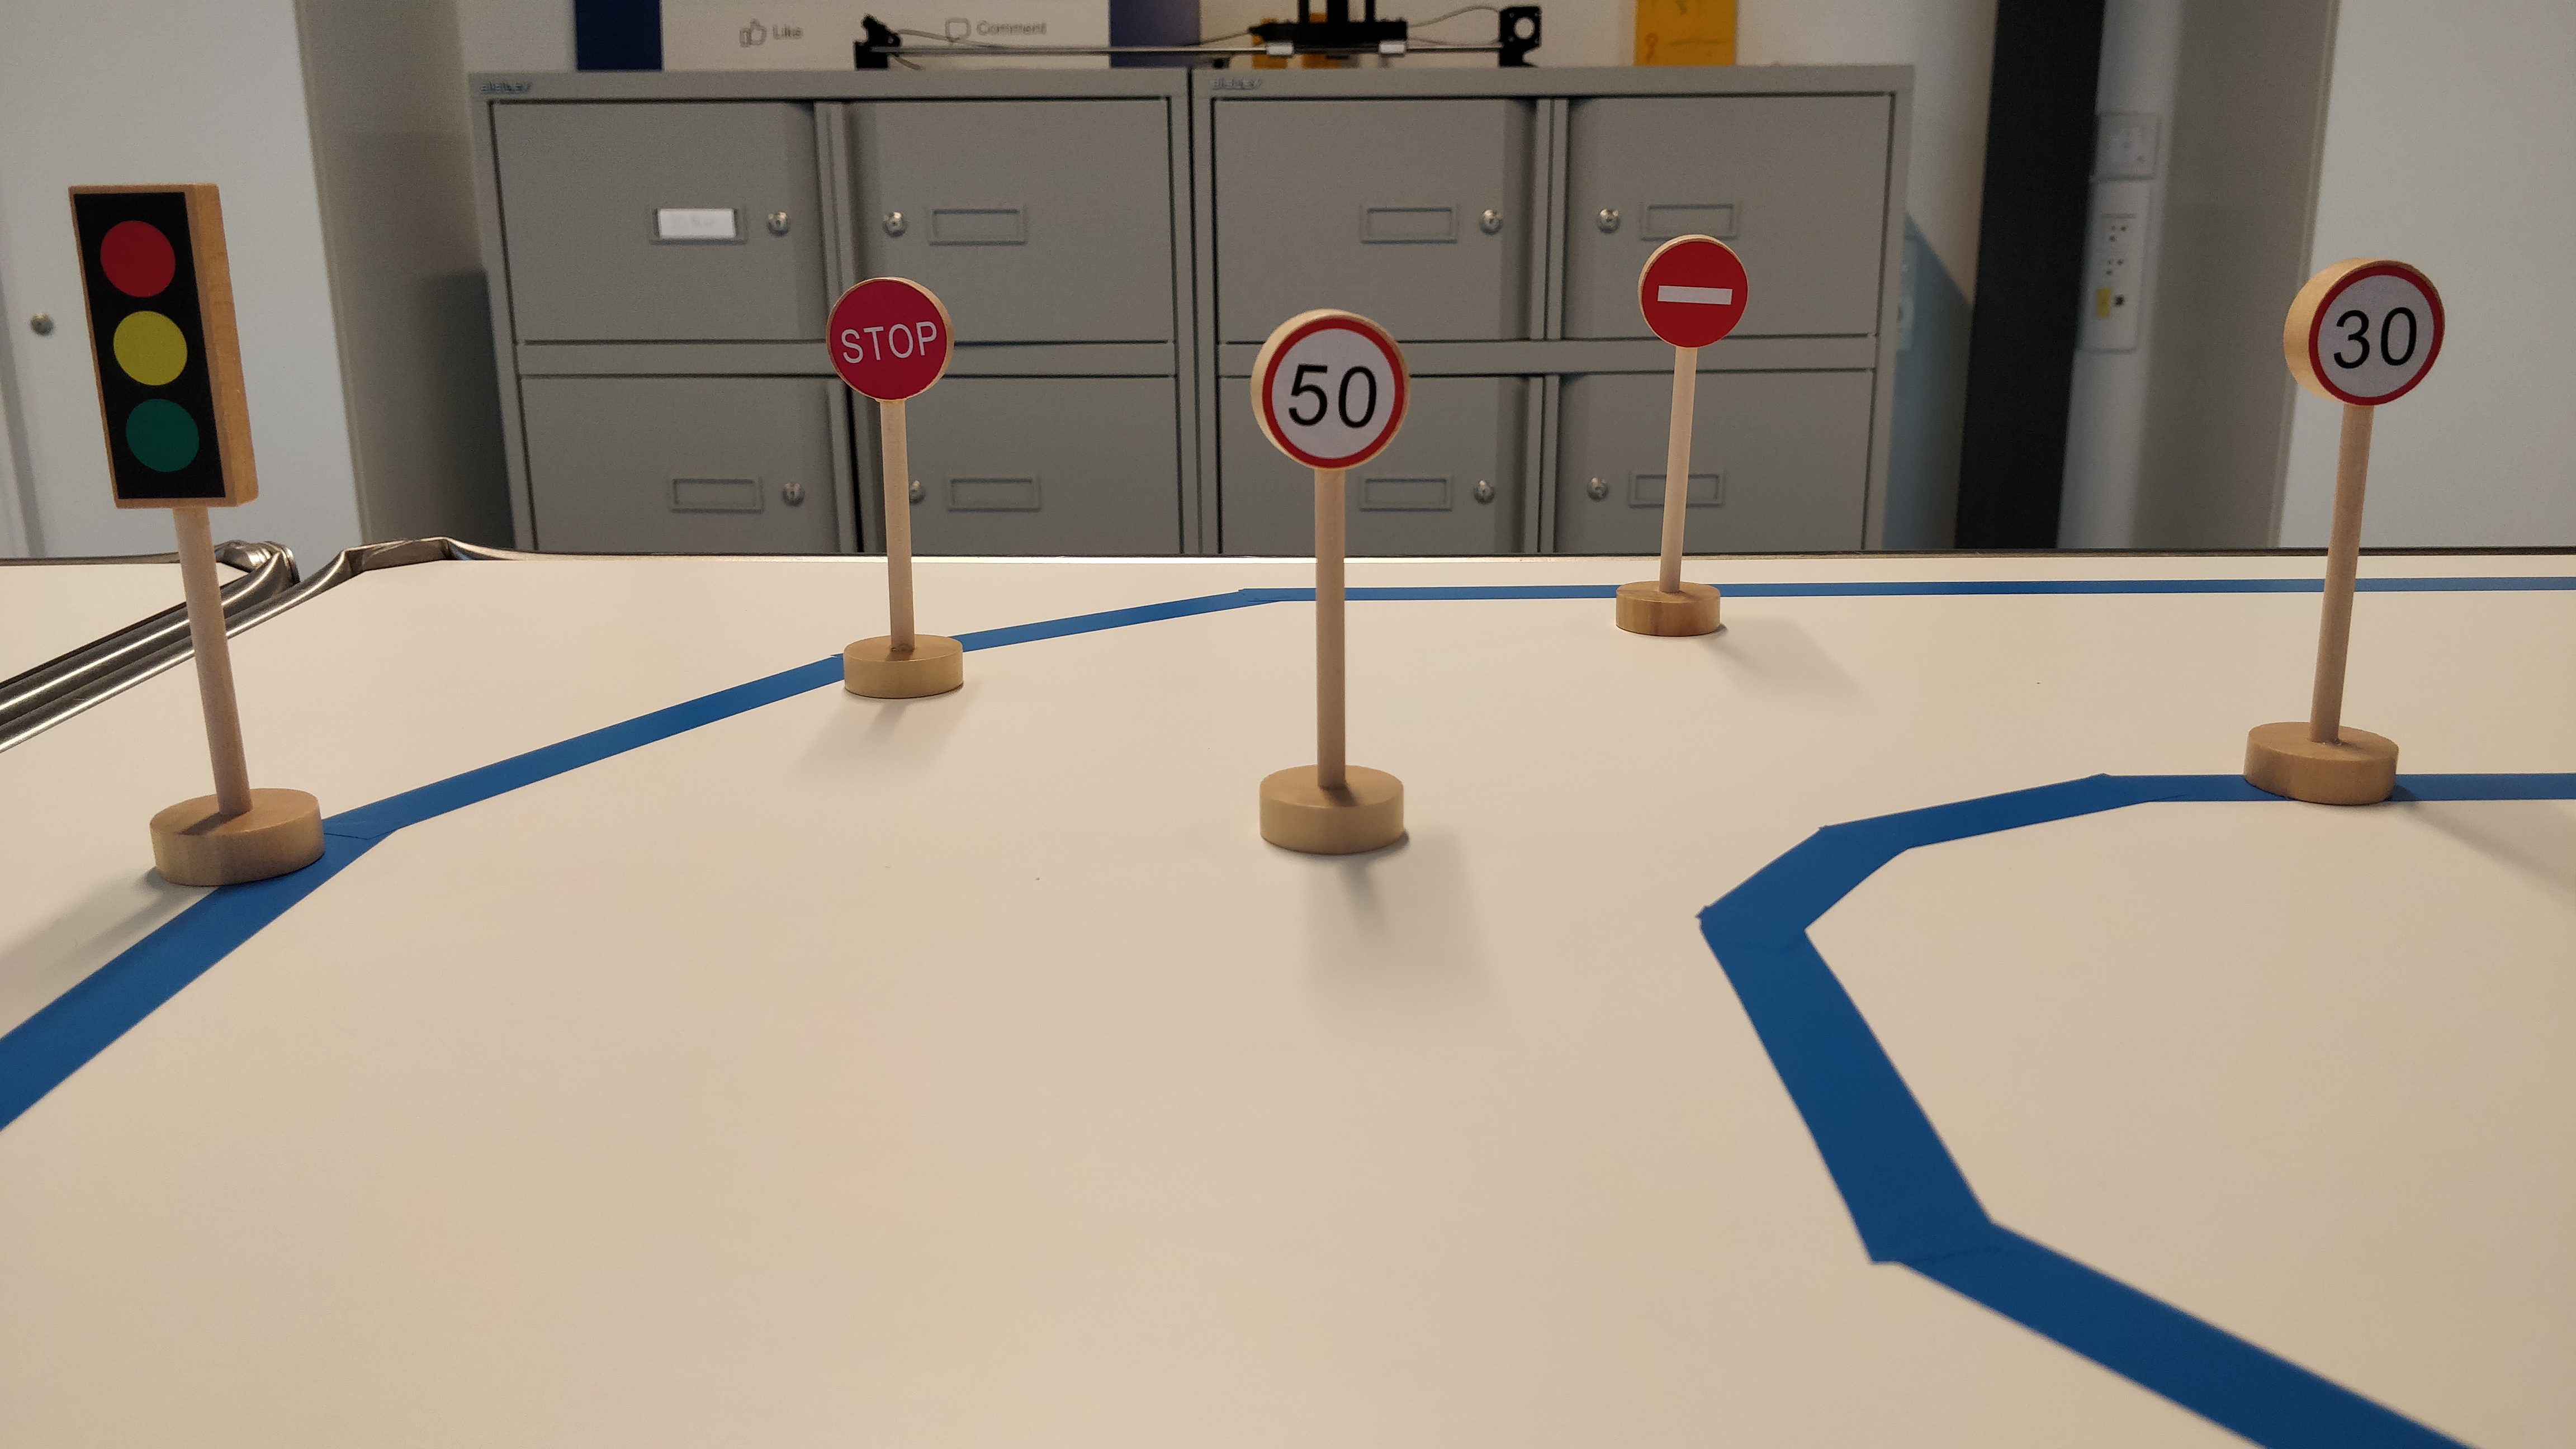Prohibition Sign: (1634, 231, 1749, 351)
Speed Limit 30: (2280, 257, 2449, 408)
Speed Limit 50: (1248, 309, 1415, 472)
Stop Sign: (818, 270, 954, 402)
Traffic Light: (64, 179, 264, 514)
